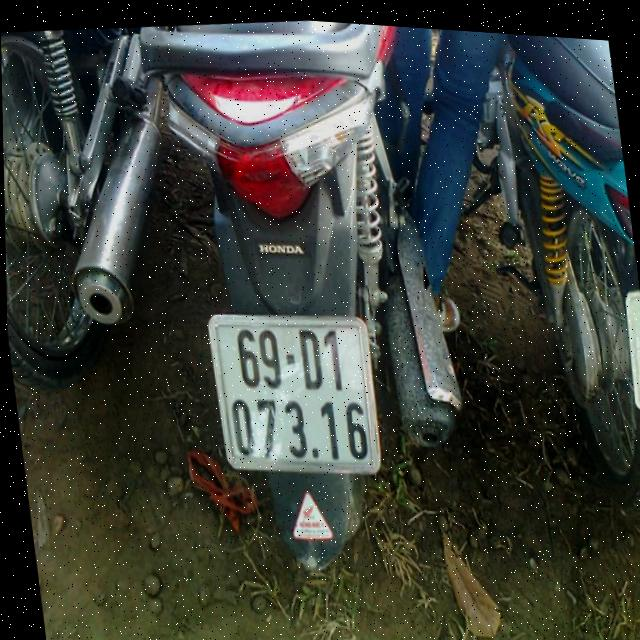motorcycle: (122, 8, 499, 591)
plate: (201, 296, 384, 491)
